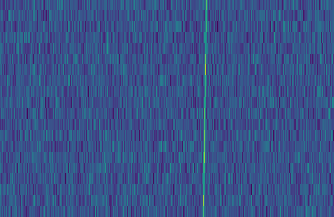signal: (199, 0, 211, 217)
